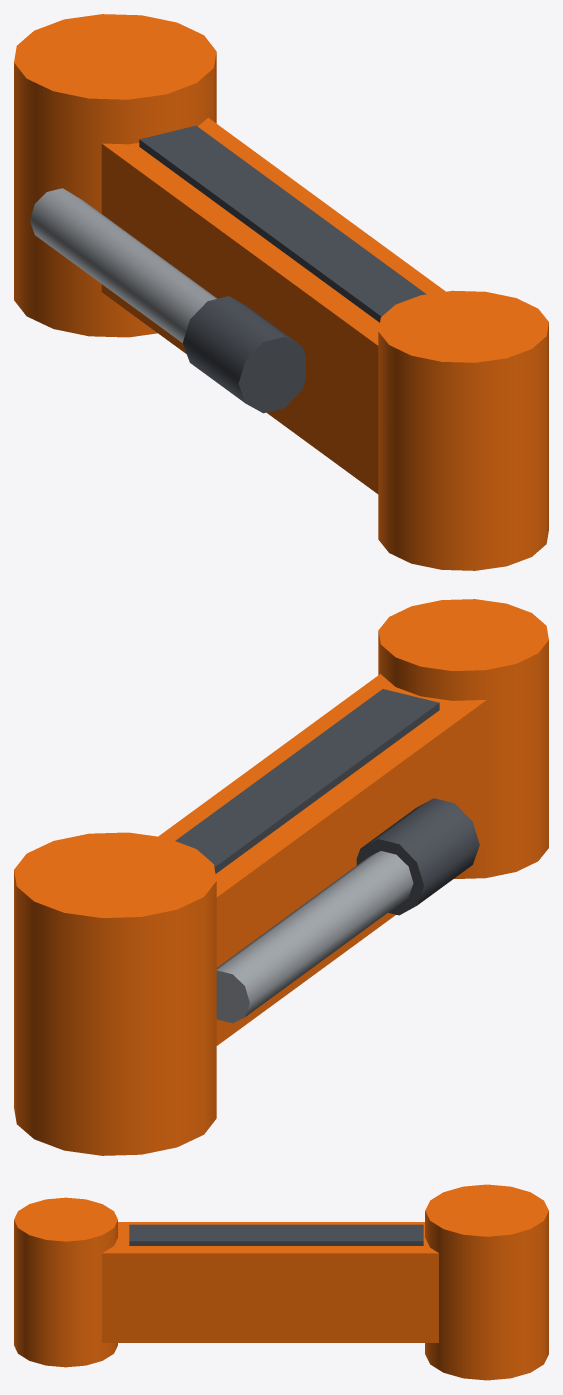
Rendered from arm_upper.obj.
The picture shows the model from 3 angles, top to bottom: view 1: azimuth 30°, elevation 25°; view 2: azimuth 150°, elevation 25°; view 3: azimuth 270°, elevation 25°; orthographic projection. The views are drawn at different scales.
Parts seen in each view (by area): view 1: robot_orange, machine_dark, steel_light; view 2: robot_orange, machine_dark, steel_light; view 3: robot_orange, machine_dark.
Boxes of the visible parts, x1,y1,x2,y2 form: robot_orange: (14, 14, 548, 570); machine_dark: (139, 125, 426, 413); steel_light: (30, 188, 217, 342); robot_orange: (14, 599, 548, 1155); machine_dark: (175, 689, 479, 915); steel_light: (216, 851, 413, 1023); robot_orange: (14, 1184, 548, 1380); machine_dark: (129, 1224, 423, 1245).
Size of the model in its own units: 0.295 by 0.32 by 1.08.
